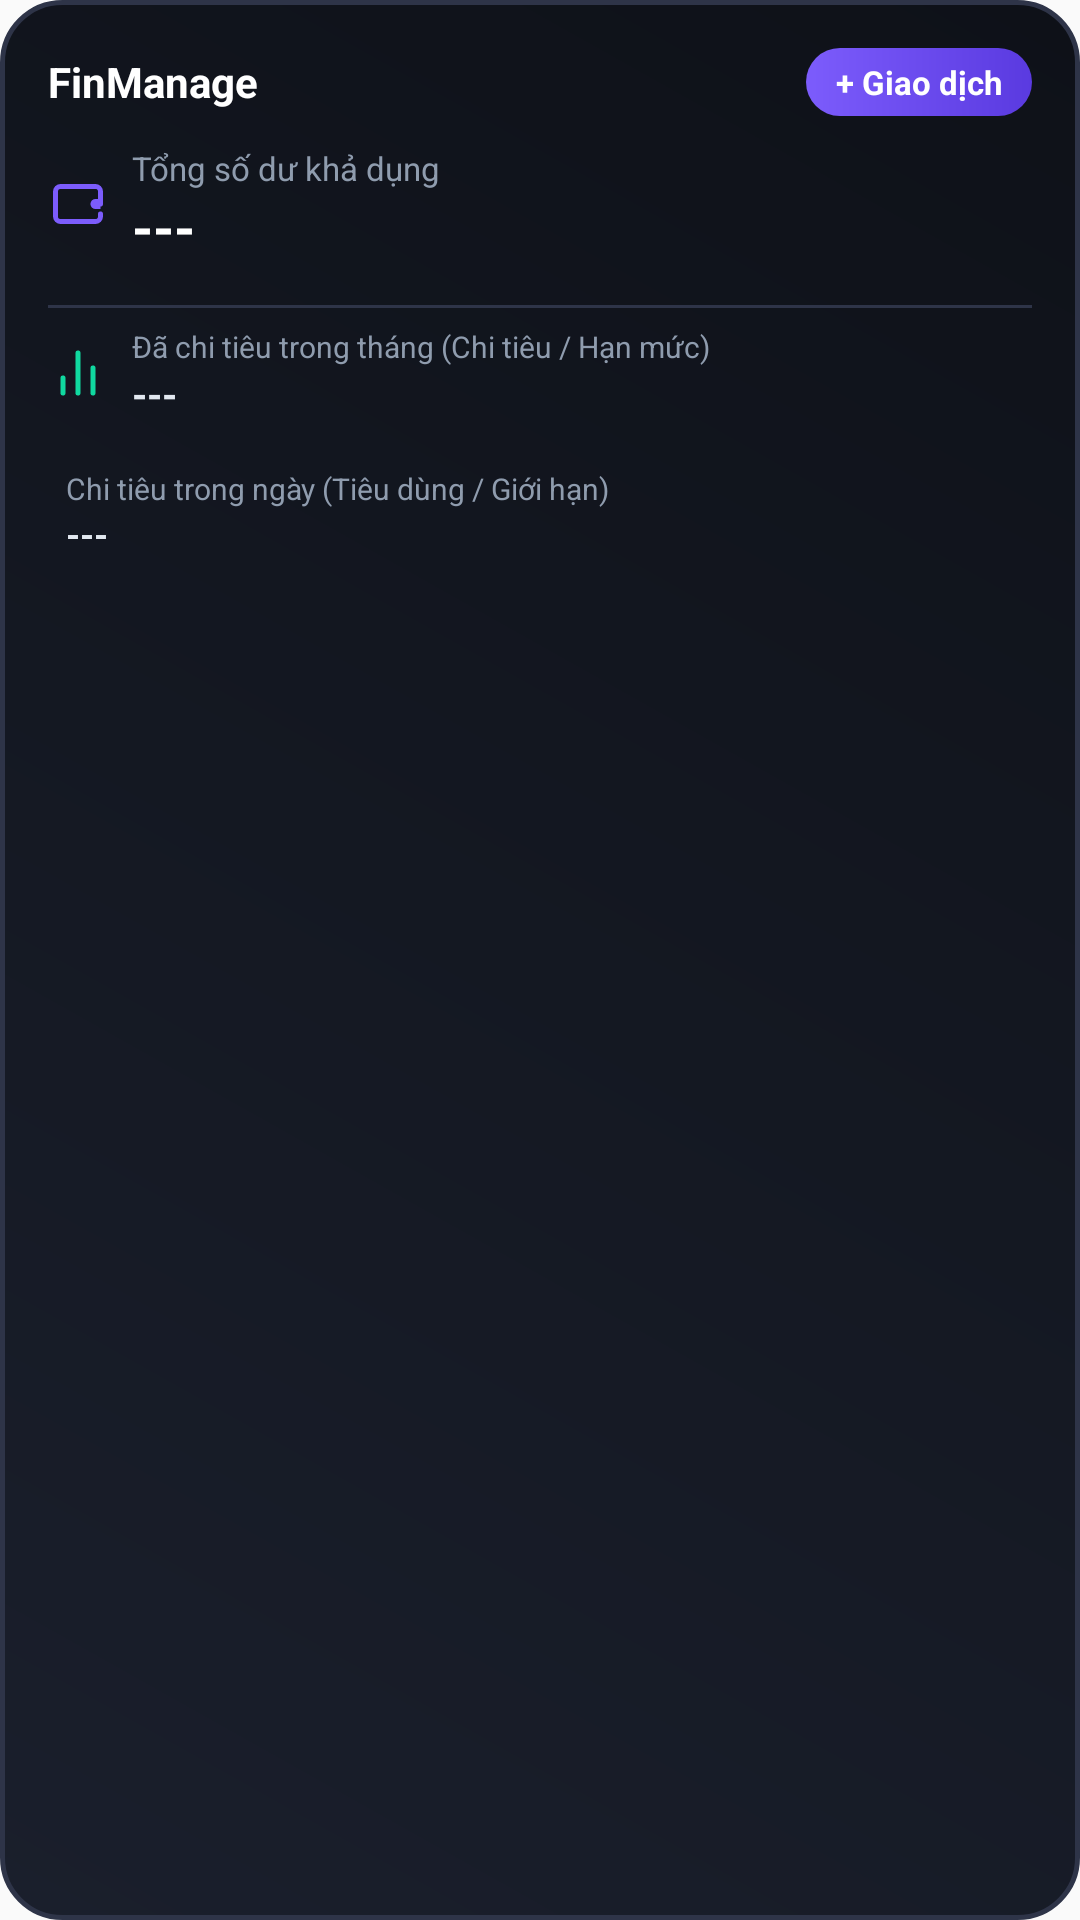

Locate icon controls on the screen. Image size 1080*1920, boxes as (x1, y1, x2, y2).
chart: (60, 350, 96, 396)
wallet: (53, 184, 103, 224)
